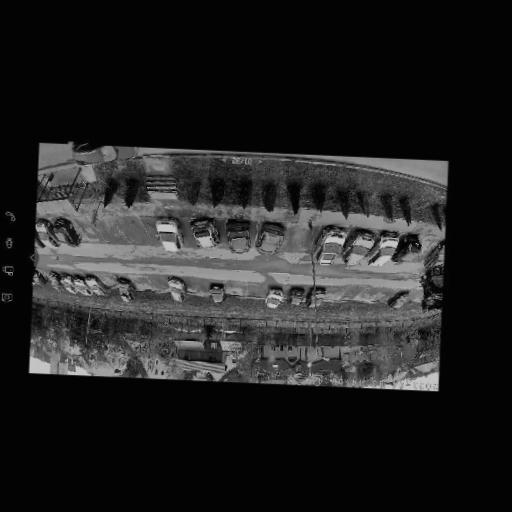busy: (66, 143, 143, 169), (310, 225, 351, 265), (342, 226, 378, 265), (149, 215, 186, 252), (253, 220, 290, 256), (47, 217, 86, 248), (188, 216, 221, 251), (391, 232, 427, 264), (370, 229, 402, 264), (223, 220, 255, 255), (30, 218, 59, 251), (162, 276, 192, 303), (112, 277, 141, 303), (78, 274, 108, 298), (262, 287, 287, 311), (424, 241, 446, 268), (284, 285, 310, 307), (57, 274, 80, 296), (43, 270, 65, 292), (205, 283, 228, 304), (30, 267, 50, 288), (387, 290, 410, 308), (310, 287, 329, 302)
free: (286, 222, 313, 254), (123, 217, 148, 246), (98, 215, 124, 242), (78, 216, 99, 244), (185, 277, 210, 299), (418, 233, 437, 260), (244, 282, 267, 304), (150, 274, 171, 296), (130, 272, 149, 295), (322, 285, 342, 306), (224, 282, 247, 298), (101, 273, 120, 290), (378, 286, 395, 304), (342, 286, 359, 304), (363, 284, 377, 305), (404, 290, 416, 306)
